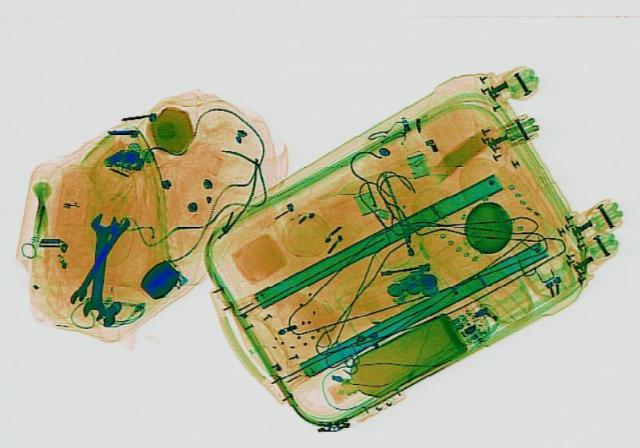Wrench: (64, 215, 134, 303), (78, 211, 118, 319)
